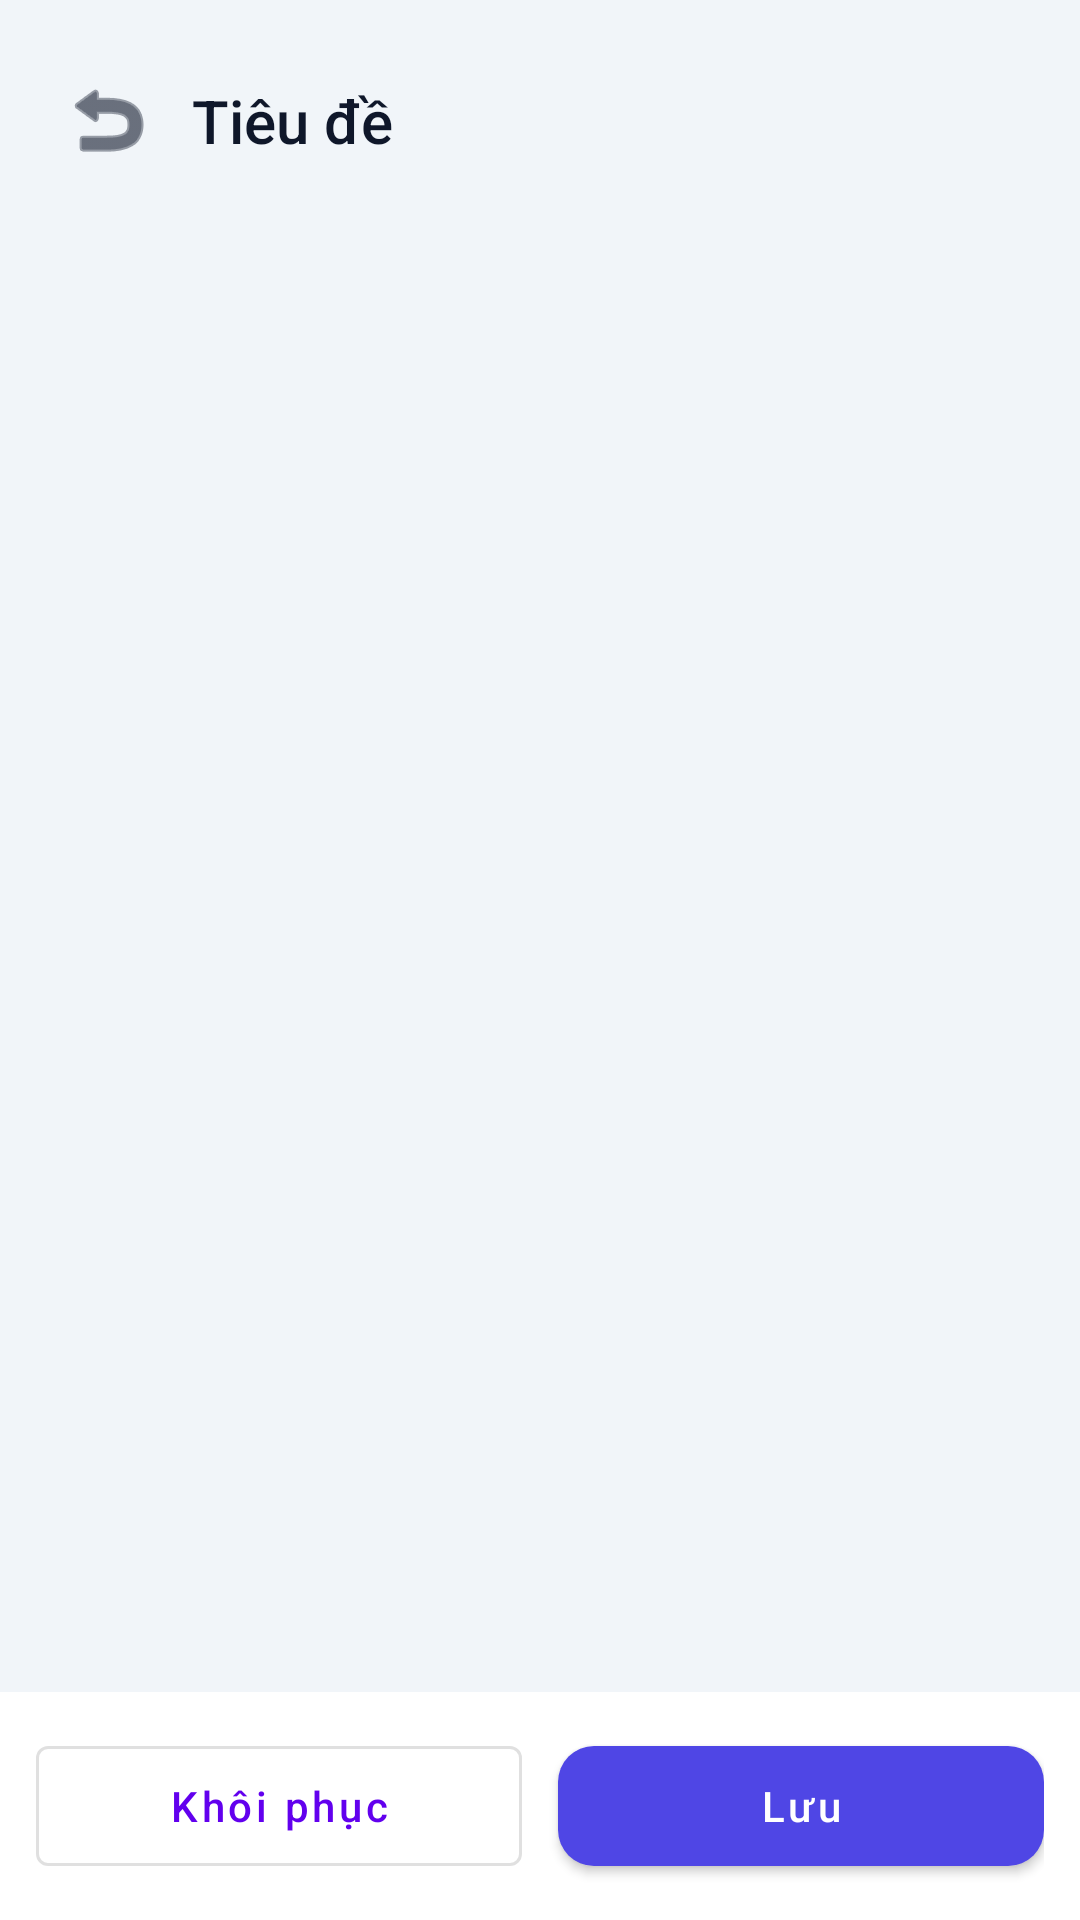

Named icons in this screenshot (1080w x 1920h) and their bounding boxes, BBox(x1, y1, x2, y2):
revert: BBox(75, 89, 144, 152)
